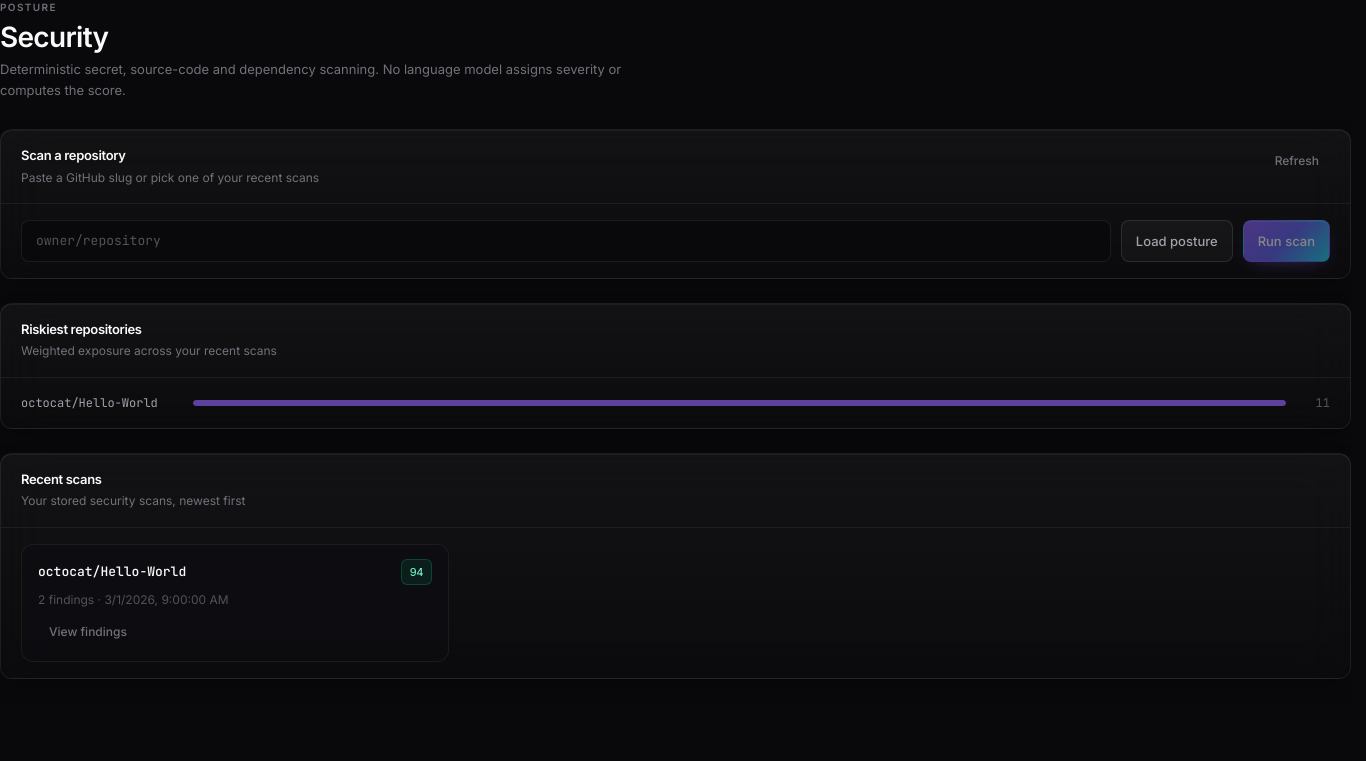
Test: SecurityPage › loading a repository posture › surfaces a posture failure without discarding the page
Type "octocat/Hello-World" into the field labelled "repository". click: (566, 241)
box: [21, 220, 1111, 262]
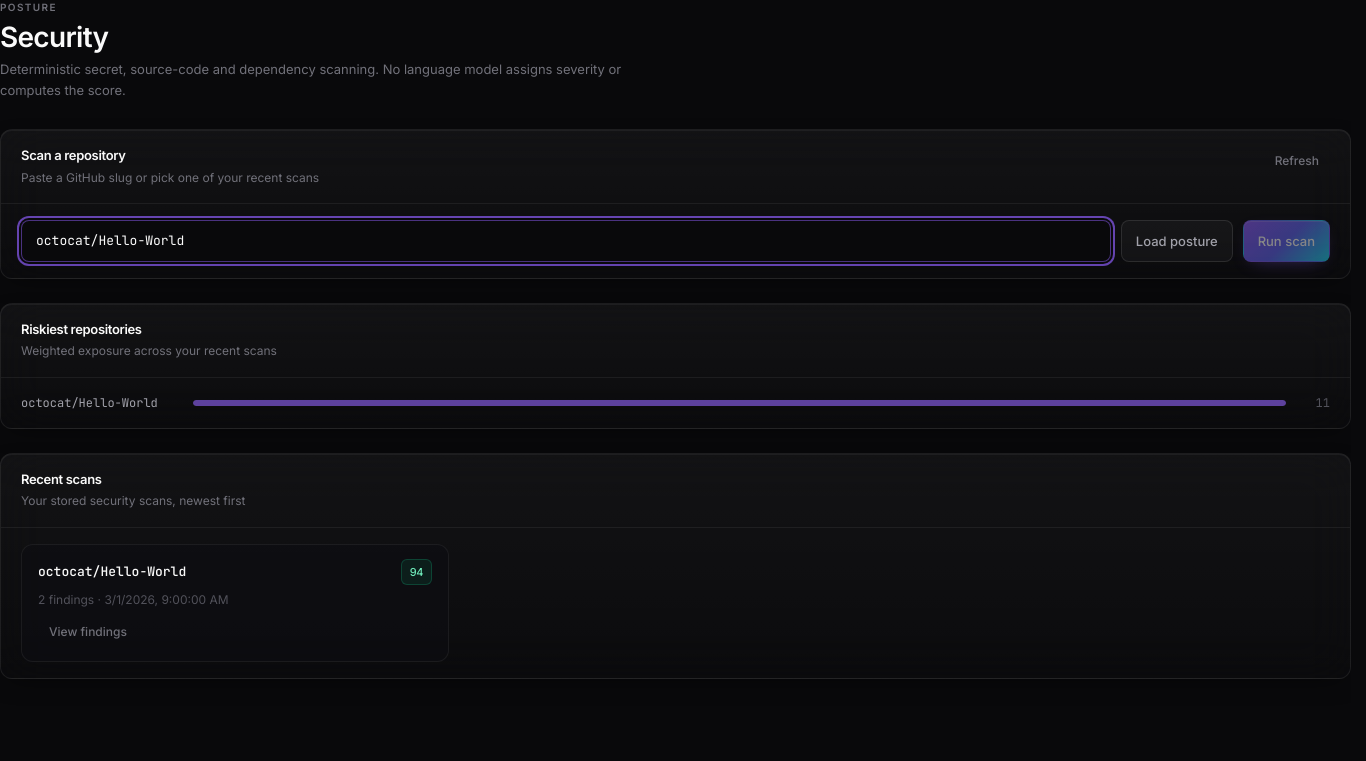
Click the button "Load posture". click: (1177, 241)
box: [1121, 220, 1233, 262]
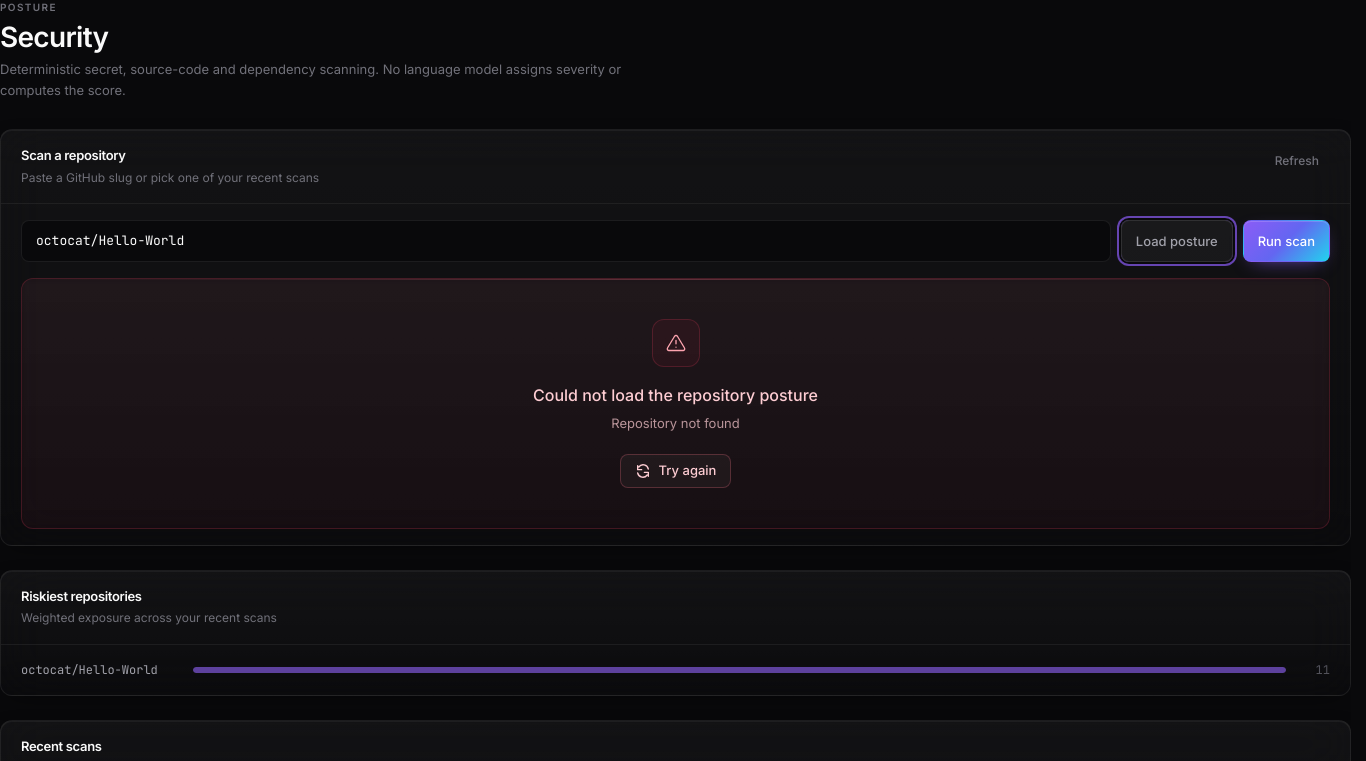
Now the heading "Could not load the repository posture" is shown, box [533, 385, 818, 405]
